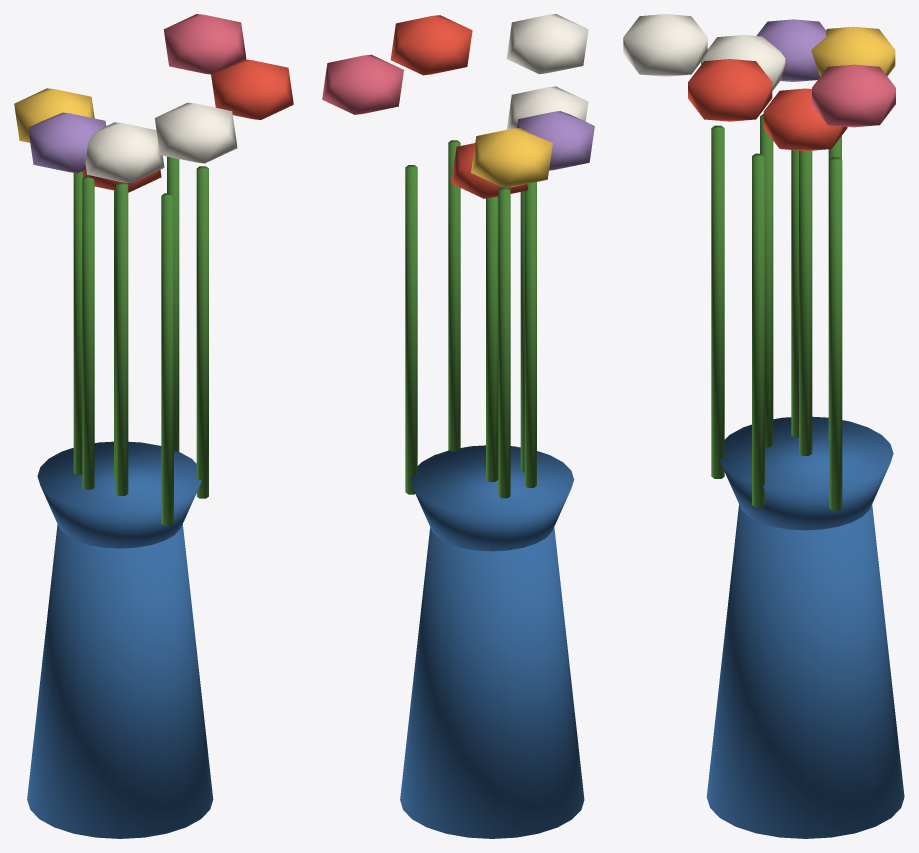
The model's file is fiori.glb.
The picture shows the model from 3 angles, left to right: view 1: azimuth 30°, elevation 25°; view 2: azimuth 150°, elevation 25°; view 3: azimuth 270°, elevation 25°; orthographic projection. The views are drawn at different scales.
Visible parts, largest first — view 1: Cone, Cone.001, Cylinder.007, Cylinder.002, Cylinder.005, Cylinder.004, Icosphere.002, Icosphere.008, Icosphere.005, Icosphere.007, Icosphere.004, Cylinder.001 (+4 smaller); view 2: Cone, Cone.001, Cylinder.008, Cylinder.001, Cylinder.004, Icosphere.002, Icosphere.005, Icosphere.008, Icosphere.001, Cylinder.005, Cylinder, Icosphere.004 (+3 smaller); view 3: Cone, Cone.001, Cylinder.008, Cylinder.002, Cylinder.005, Icosphere.005, Icosphere.002, Icosphere.008, Cylinder, Icosphere, Cylinder.007, Icosphere.001 (+4 smaller).
Part boxes in pixels (left/top/right/bottom): Cone: left=27, top=524, right=213, bottom=838; Cone.001: left=37, top=441, right=201, bottom=548; Cylinder.007: left=115, top=183, right=128, bottom=495; Cylinder.002: left=161, top=193, right=173, bottom=525; Cylinder.005: left=196, top=166, right=208, bottom=498; Cylinder.004: left=82, top=176, right=94, bottom=489; Icosphere.002: left=154, top=102, right=237, bottom=163; Icosphere.008: left=163, top=14, right=246, bottom=74; Icosphere.005: left=211, top=59, right=293, bottom=119; Icosphere.007: left=85, top=122, right=164, bottom=182; Icosphere.004: left=28, top=112, right=106, bottom=172; Cylinder.001: left=73, top=171, right=82, bottom=474; Cone: left=400, top=527, right=584, bottom=838; Cone.001: left=410, top=445, right=574, bottom=551; Cylinder.008: left=405, top=165, right=417, bottom=494; Cylinder.001: left=498, top=187, right=510, bottom=498; Cylinder.004: left=524, top=182, right=536, bottom=487; Icosphere.002: left=506, top=14, right=588, bottom=74; Icosphere.005: left=390, top=15, right=472, bottom=75; Icosphere.008: left=322, top=54, right=403, bottom=114; Icosphere.001: left=471, top=128, right=552, bottom=187; Cylinder.005: left=448, top=140, right=460, bottom=451; Cylinder: left=486, top=196, right=498, bottom=481; Icosphere.004: left=517, top=111, right=594, bottom=170; Cone: left=706, top=504, right=904, bottom=838; Cone.001: left=719, top=416, right=893, bottom=530; Cylinder.008: left=829, top=157, right=842, bottom=510; Cylinder.002: left=711, top=125, right=724, bottom=478; Cylinder.005: left=752, top=153, right=764, bottom=507; Icosphere.005: left=688, top=59, right=772, bottom=121; Icosphere.002: left=623, top=14, right=707, bottom=76; Icosphere.008: left=812, top=64, right=895, bottom=127; Cylinder: left=799, top=150, right=812, bottom=455; Icosphere: left=763, top=88, right=847, bottom=150; Cylinder.007: left=760, top=114, right=773, bottom=447; Icosphere.001: left=811, top=26, right=895, bottom=76.
Bounding box in the file's own units: 0.2637 × 0.7915 × 0.2558.
